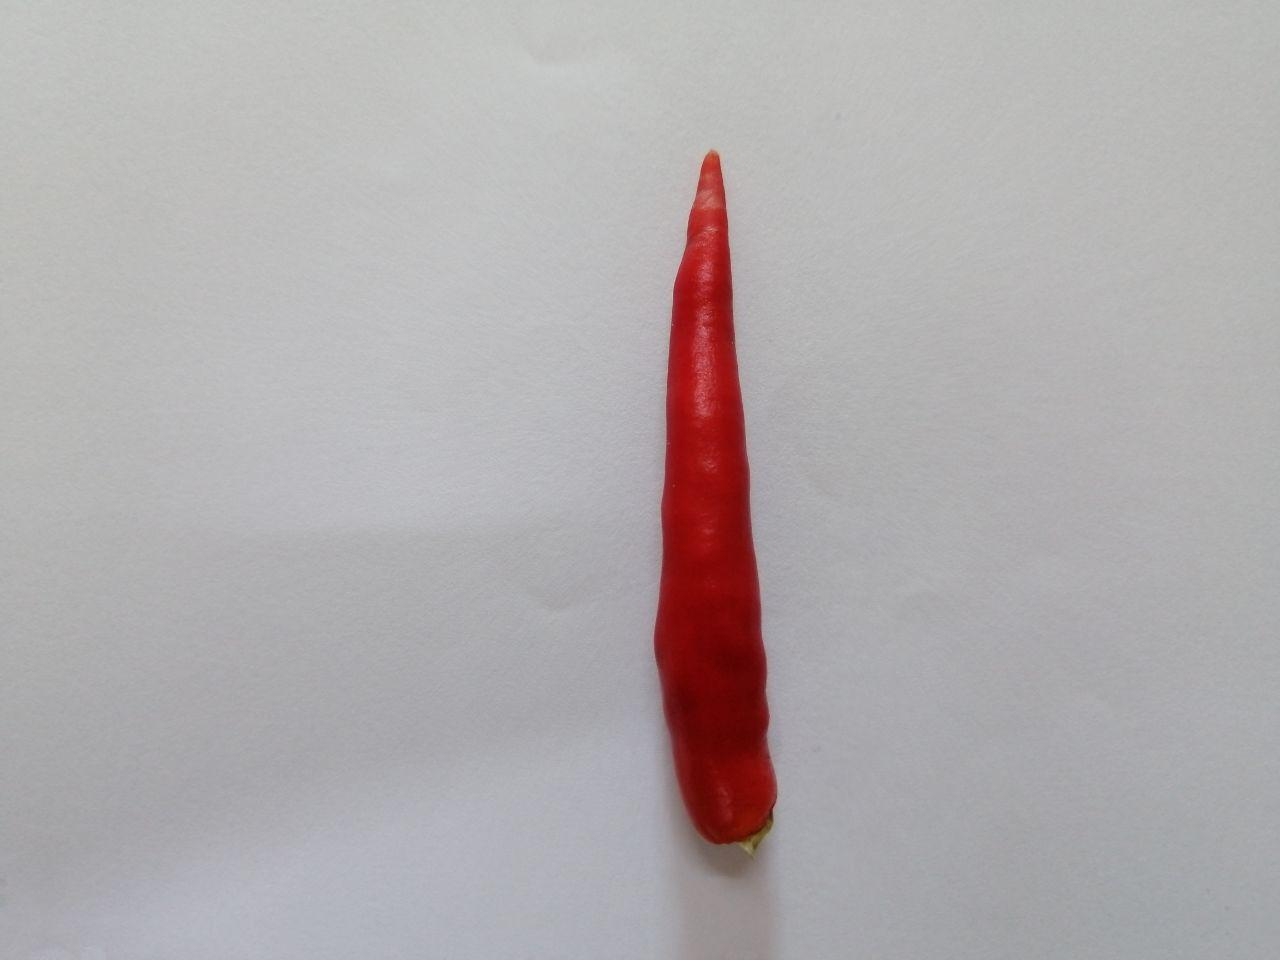lada merah: (622, 127, 858, 875)
